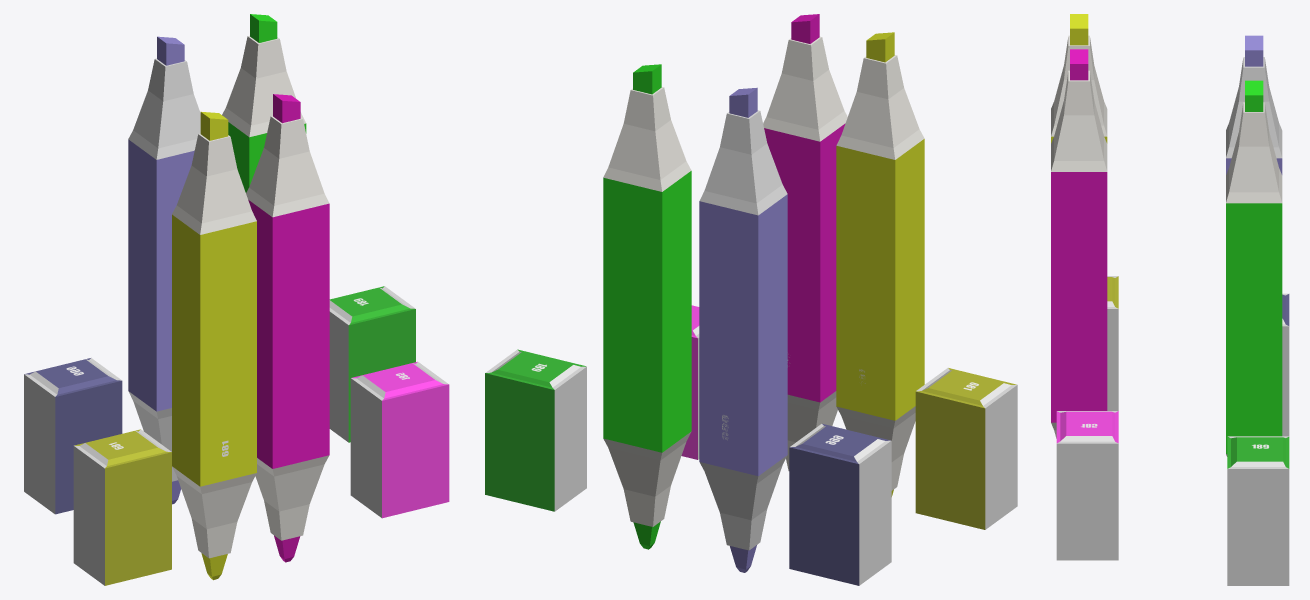
The model's file is marker.glb.
The picture shows the model from 3 angles, left to right: view 1: azimuth 30°, elevation 25°; view 2: azimuth 150°, elevation 25°; view 3: azimuth 270°, elevation 25°; orthographic projection. The views are drawn at different scales.
Visible parts, largest first — view 1: Cube.006, Cube, Cube.004, Cube.001, Cube.007, Cube.002, Cube.005, Cube.003; view 2: Cube.003, Cube.004, Cube.006, Cube, Cube.007, Cube.002, Cube.005, Cube.001; view 3: Cube, Cube.003, Cube.001, Cube.005, Cube.004, Cube.006, Cube.007, Cube.002.
Boxes of the visible parts, <box> form: Cube.006: <box>172,111,256,580</box>; Cube: <box>246,94,329,562</box>; Cube.004: <box>128,36,200,504</box>; Cube.001: <box>350,361,449,518</box>; Cube.007: <box>73,429,171,585</box>; Cube.002: <box>24,358,122,514</box>; Cube.005: <box>329,286,415,442</box>; Cube.003: <box>222,14,306,192</box>; Cube.003: <box>603,64,691,549</box>; Cube.004: <box>699,87,787,572</box>; Cube.006: <box>836,32,924,496</box>; Cube: <box>763,14,847,470</box>; Cube.007: <box>915,368,1017,529</box>; Cube.002: <box>789,423,891,585</box>; Cube.005: <box>485,349,586,511</box>; Cube.001: <box>681,305,699,459</box>; Cube: <box>1051,49,1107,438</box>; Cube.003: <box>1226,80,1282,456</box>; Cube.001: <box>1056,411,1118,560</box>; Cube.005: <box>1227,436,1289,585</box>; Cube.004: <box>1226,35,1282,174</box>; Cube.006: <box>1051,14,1107,143</box>; Cube.007: <box>1107,276,1118,410</box>; Cube.002: <box>1282,293,1289,436</box>.
Size of the model in its own units: 3.36 by 3.7 by 1.77.
28 materials, 8 textured.
